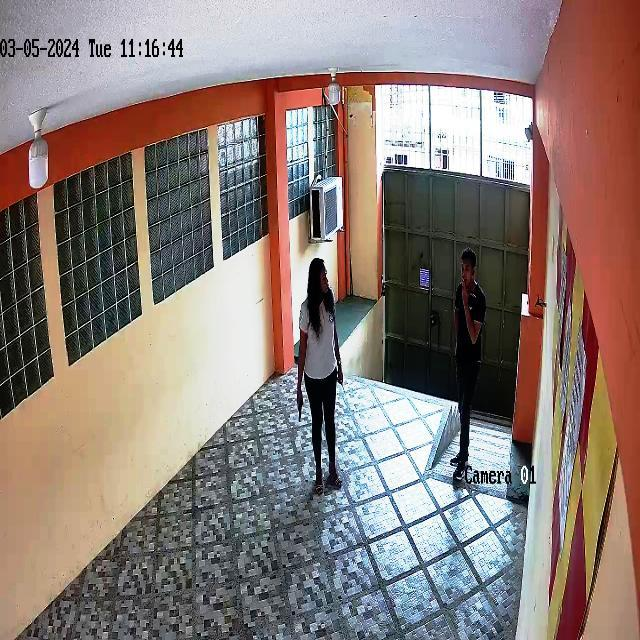Gun: (292, 390, 313, 430)
